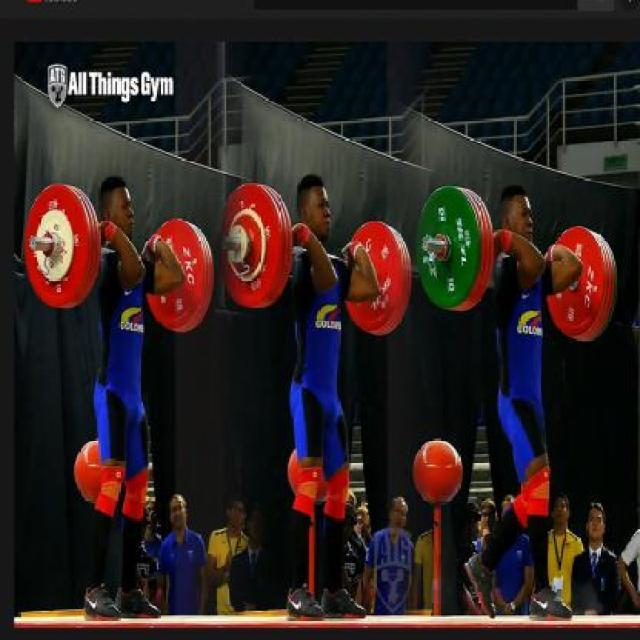barbell: (414, 177, 497, 322), (216, 176, 296, 321), (19, 177, 101, 316)
